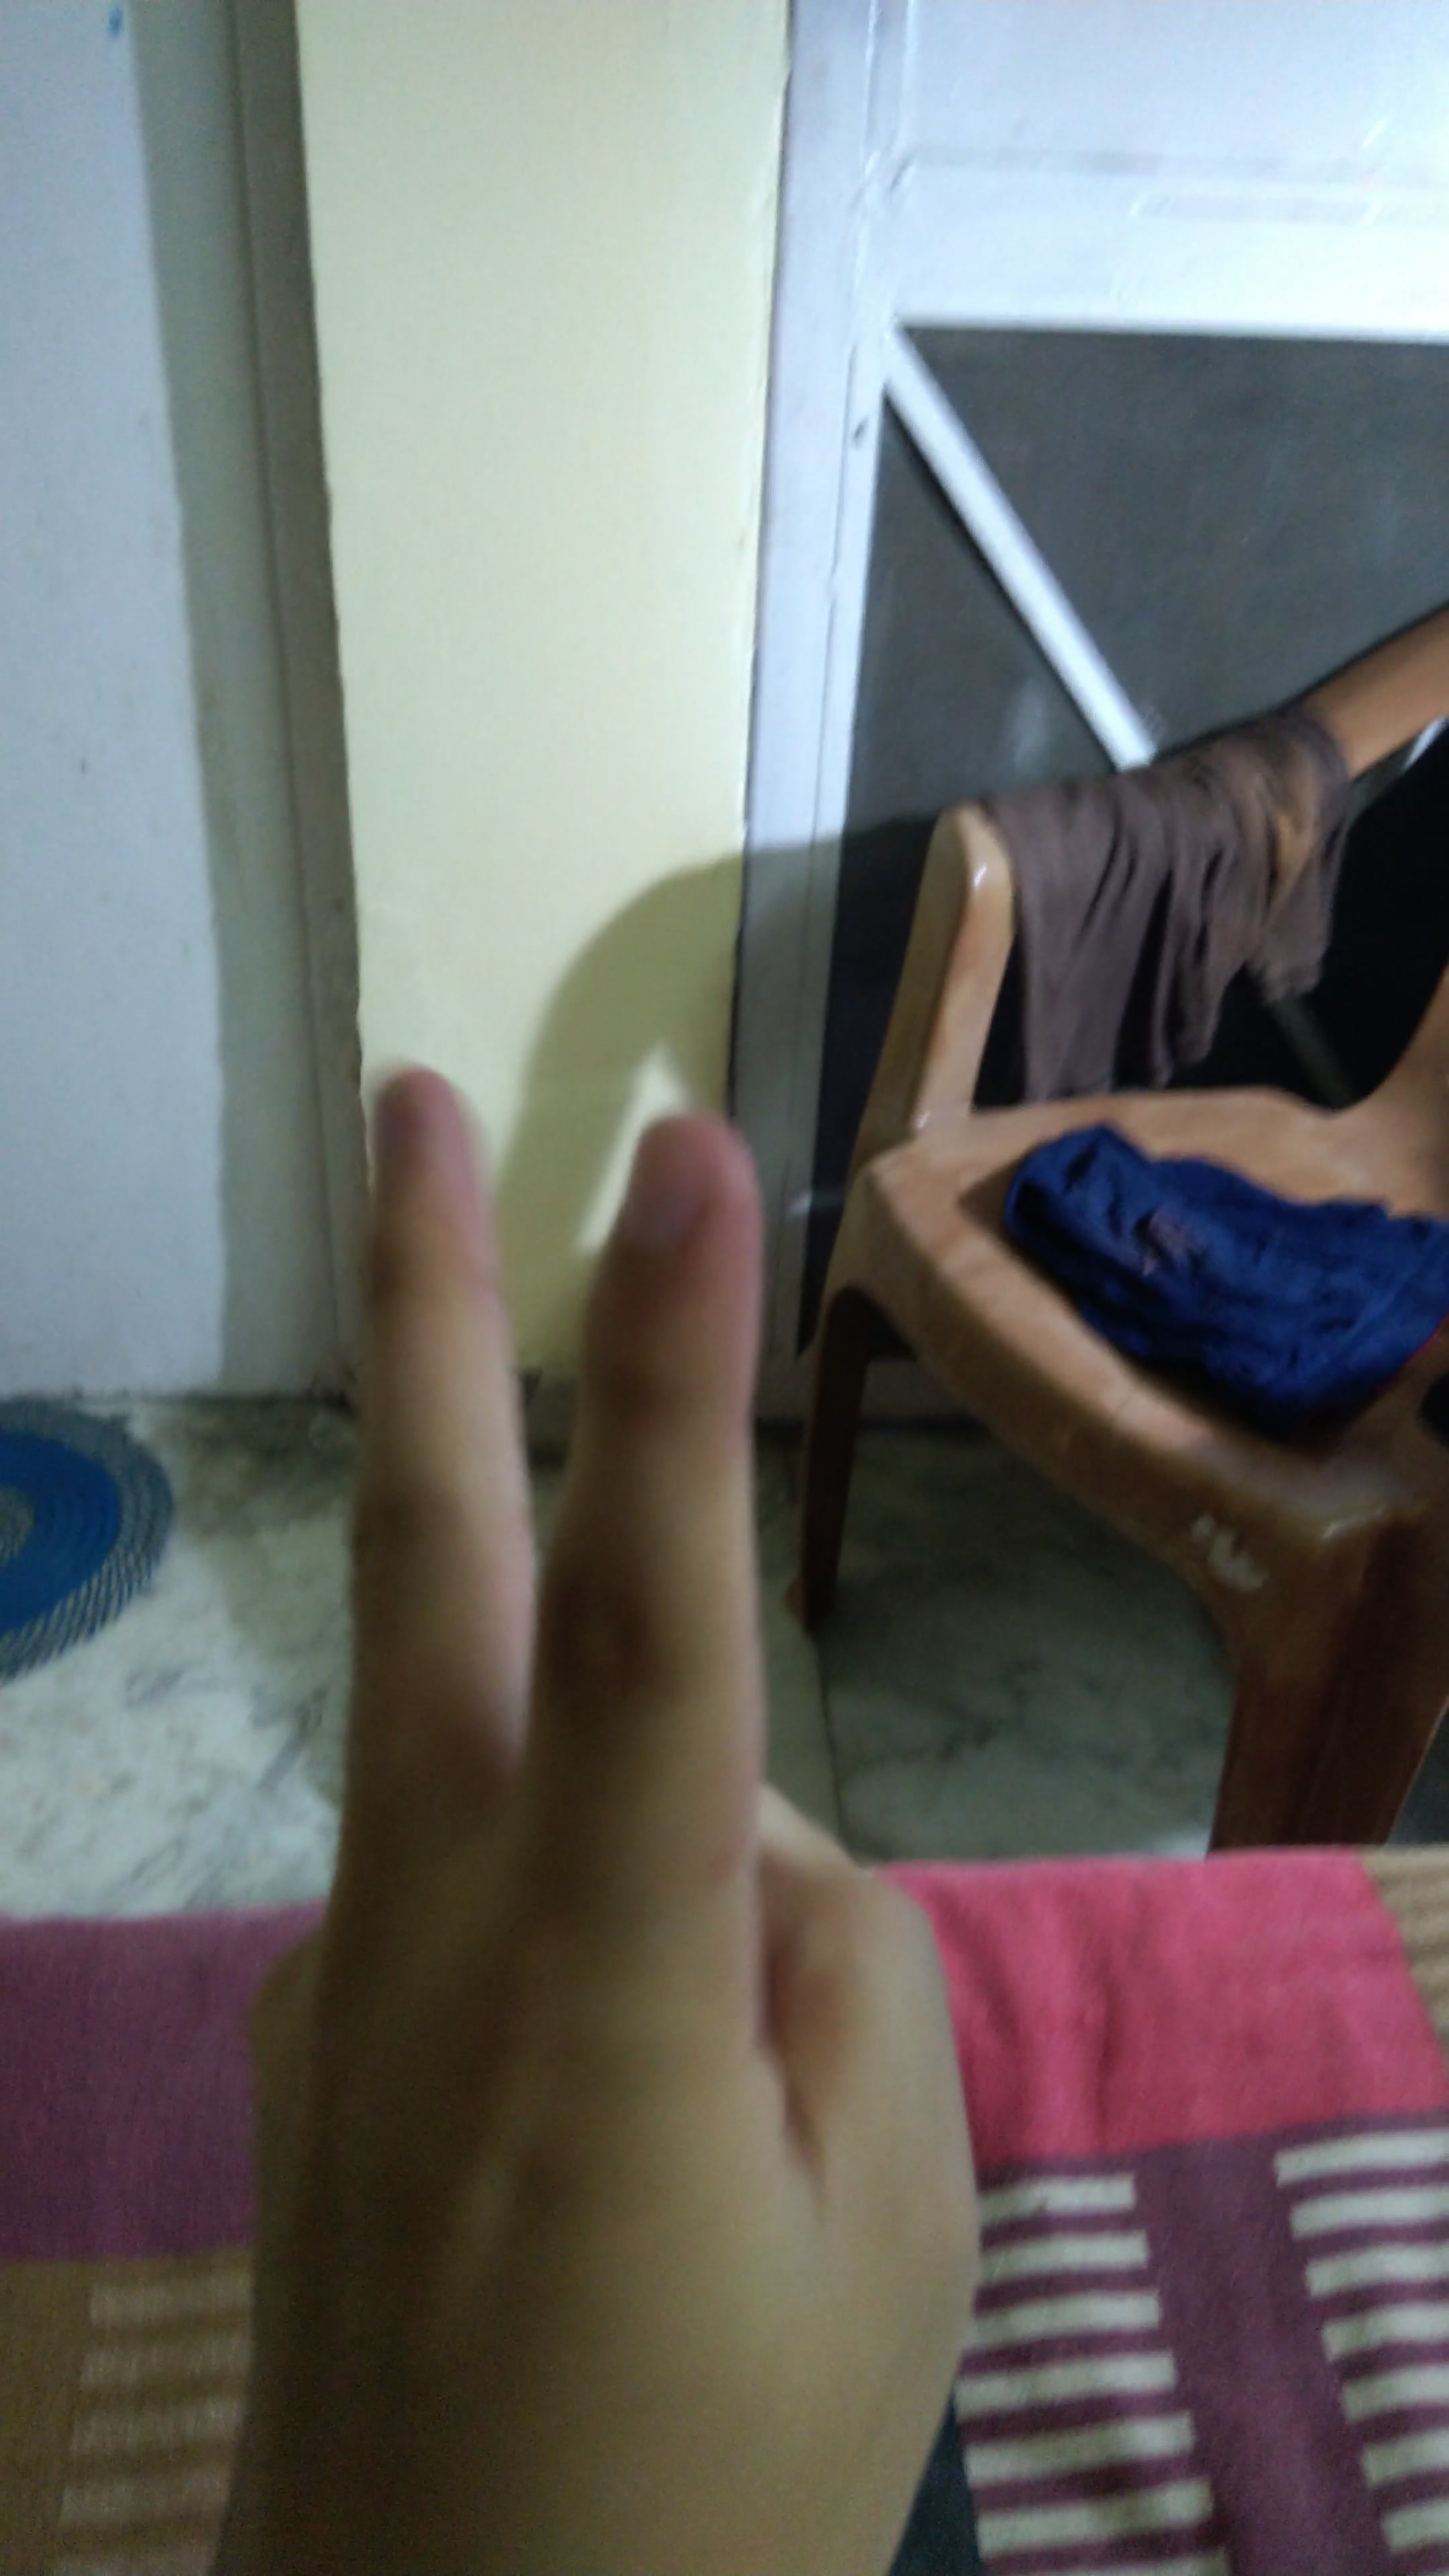hand: (124, 1024, 1145, 2512)
